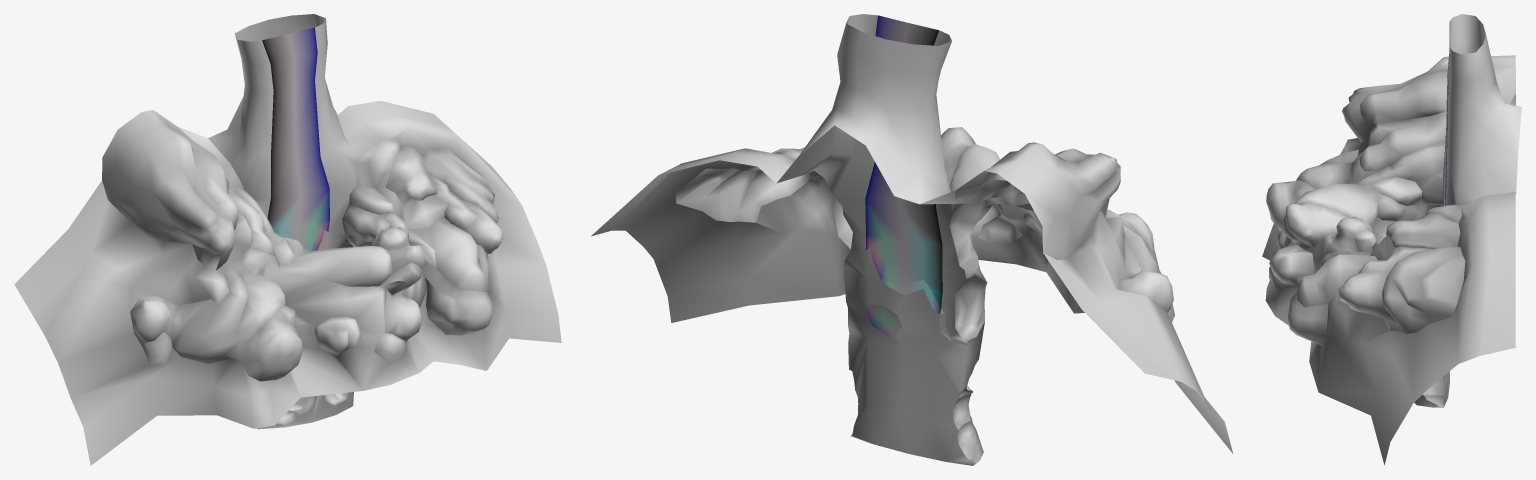
File: Transition_CaveVolcanoA.glb
3 views of the same model, side by side, from view 1: azimuth 30°, elevation 25°; view 2: azimuth 150°, elevation 25°; view 3: azimuth 270°, elevation 25° (orthographic). The views are drawn at different scales.
Parts seen in each view (by area): view 1: MeshNode_0, MeshNode_1; view 2: MeshNode_0, MeshNode_1; view 3: MeshNode_0, MeshNode_1.
Boxes of the visible parts, x1,y1,x2,y2 form: MeshNode_0: (14, 14, 561, 465); MeshNode_1: (262, 27, 329, 250); MeshNode_0: (591, 14, 1233, 465); MeshNode_1: (865, 15, 942, 335); MeshNode_0: (1262, 14, 1521, 465); MeshNode_1: (1443, 54, 1449, 205).
Bounding box in the file's own units: 172 × 128 × 86.3.
